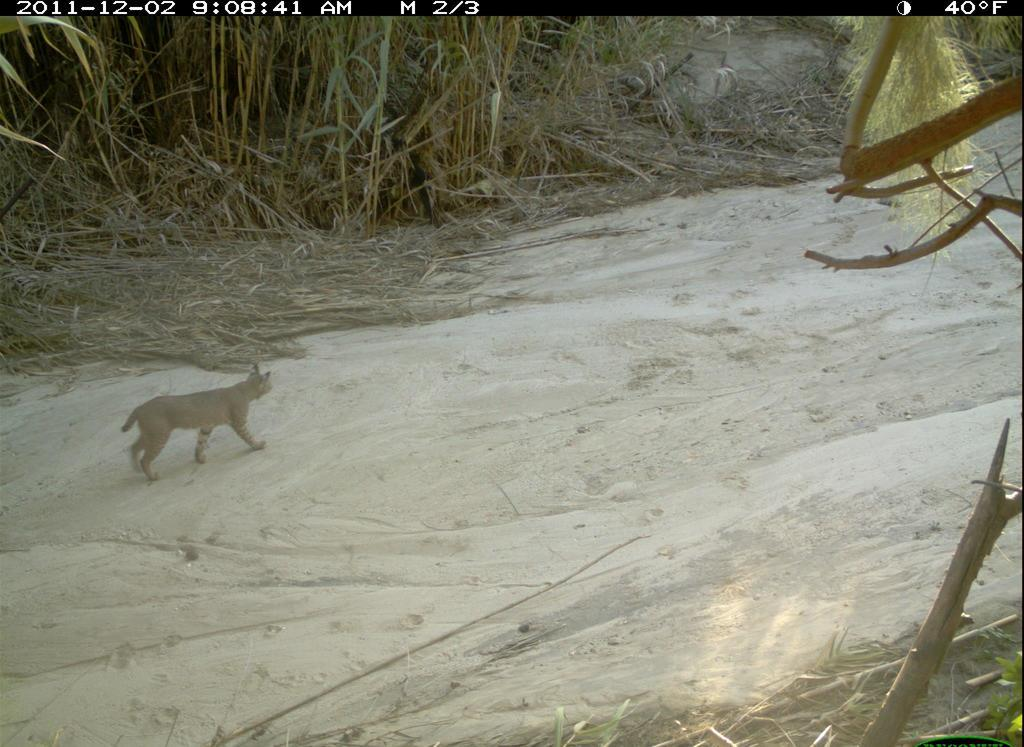bobcat: (118, 355, 291, 489)
